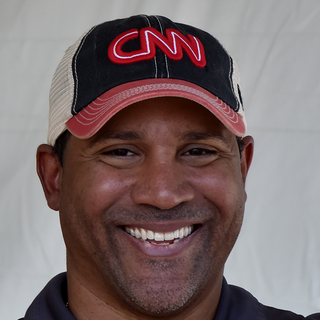eye: (93, 140, 147, 166), (175, 142, 221, 166)
